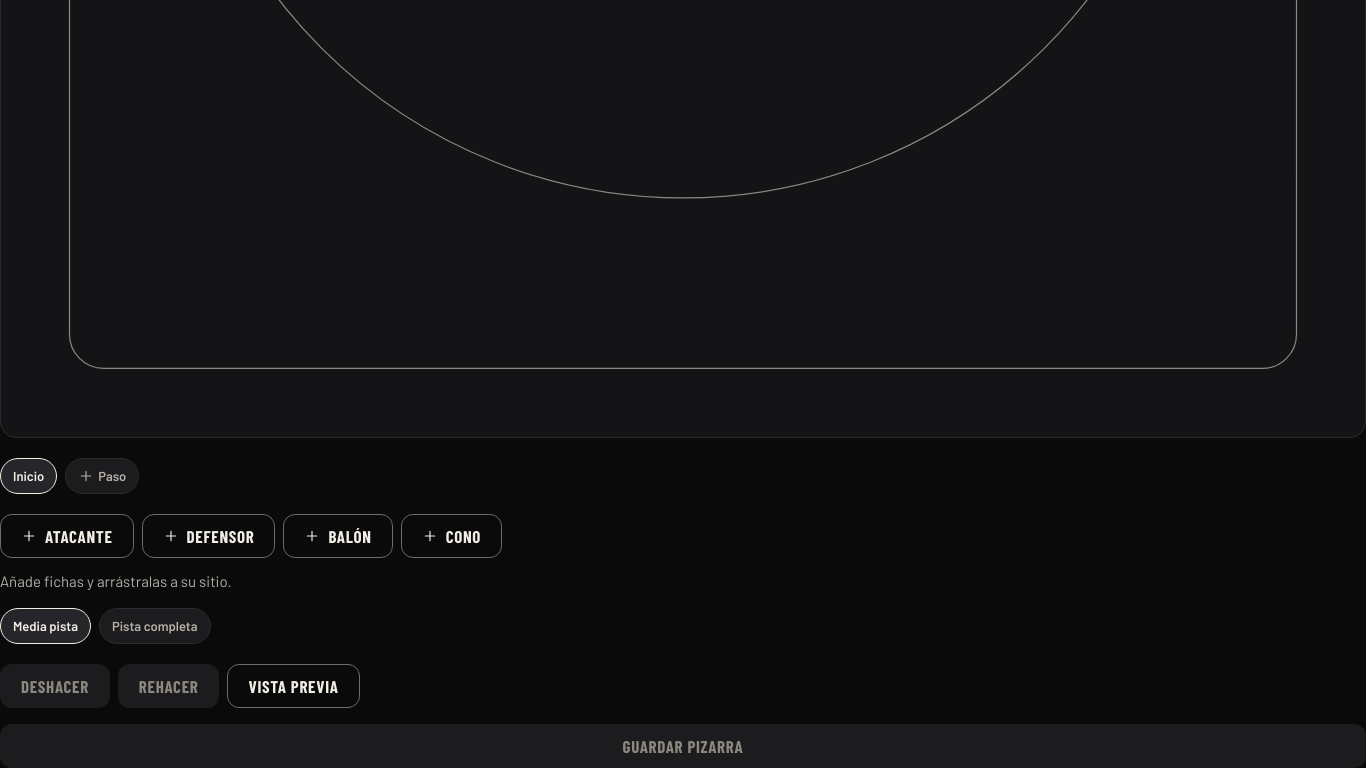
Test case: BoardEditor · añadir fichas › «Listo» la suelta y vuelven los botones de añadir
(page scrolled)
What coordinates should you click on to do the following:
click the button with aria-label "Añadir atacante"
I would click on:
 (67, 536)
Its box is x1=0 y1=514 x2=134 y2=558.
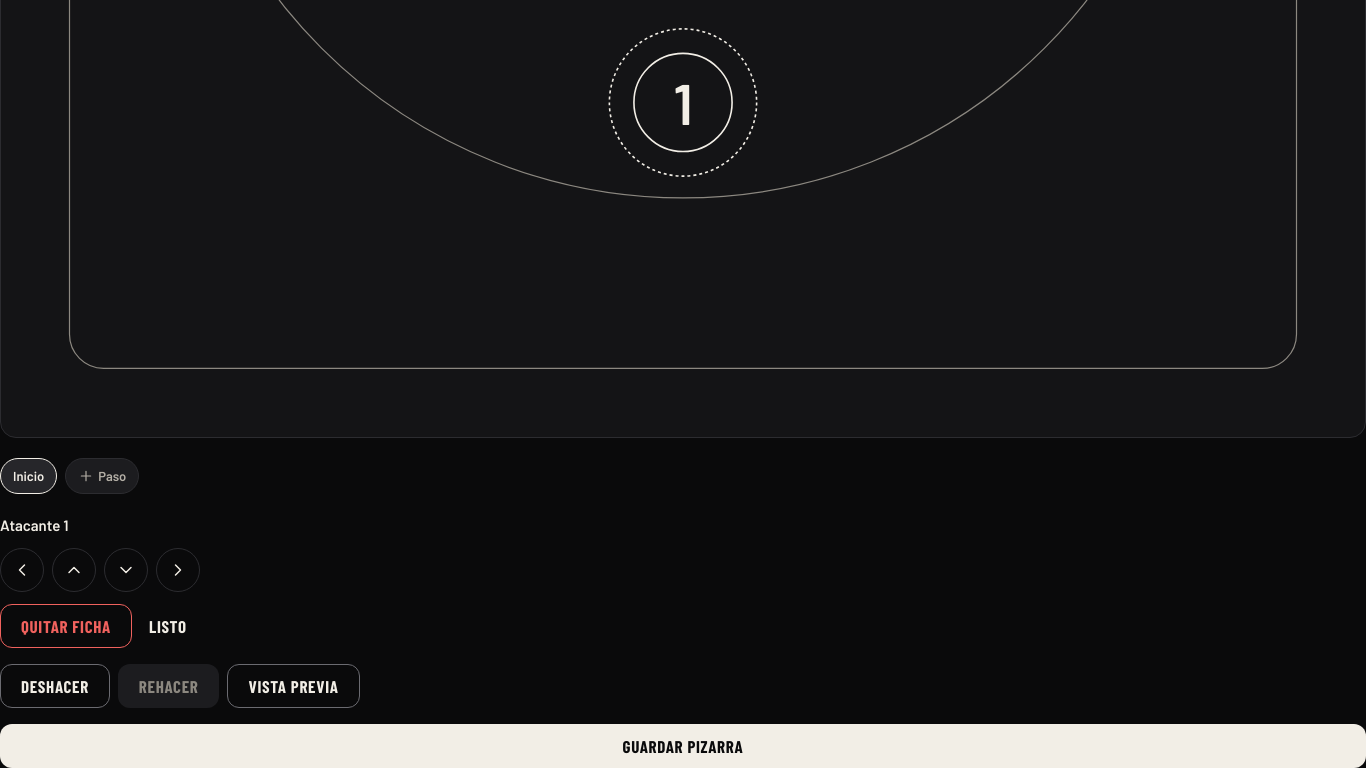
What coordinates should you click on to do the following:
click the button "Listo"
I would click on:
 (168, 626)
Its box is x1=140 y1=604 x2=196 y2=648.
(page scrolled)
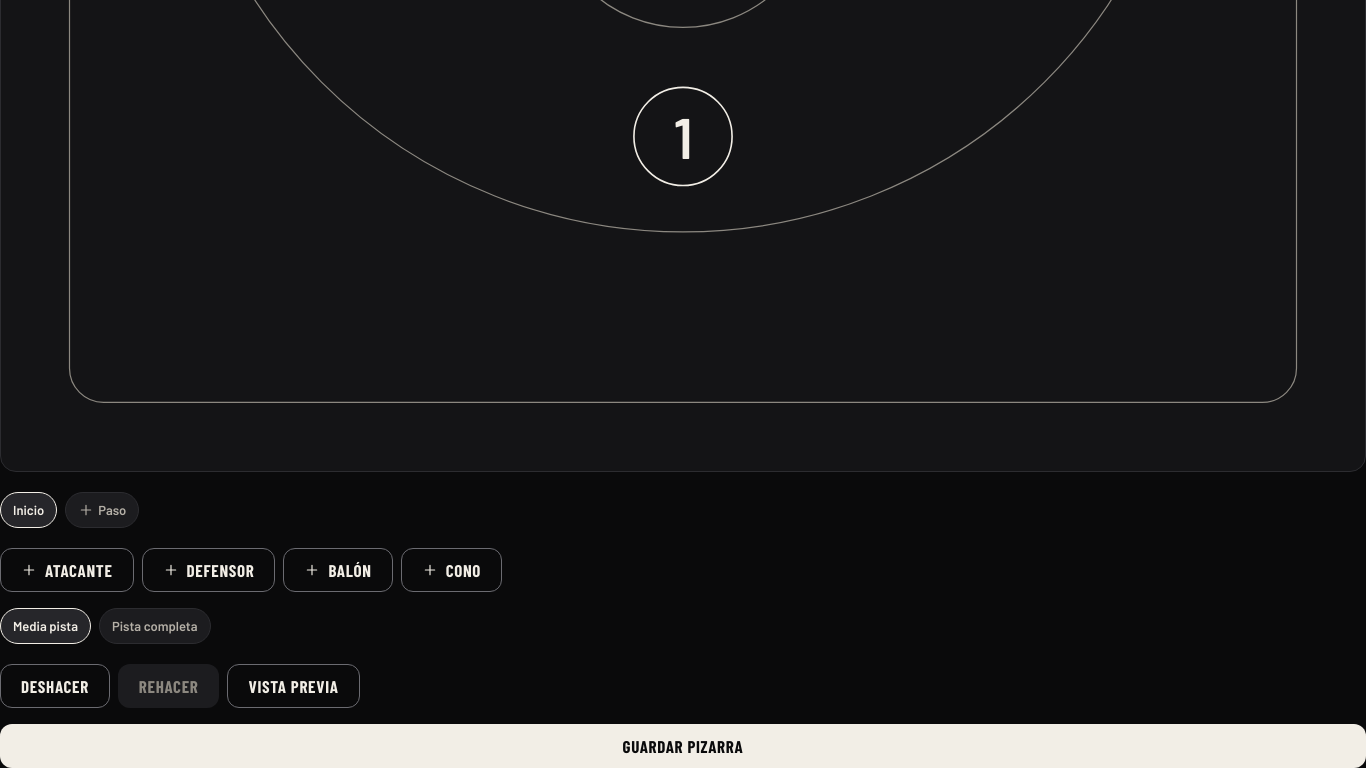
Expected: the element named "Añadir ficha" is shown, x1=0 y1=548 x2=502 y2=592
Expected: the button "Quitar ficha" is gone
